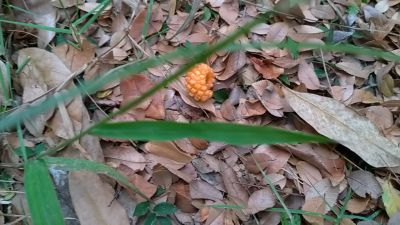eggs: (183, 60, 214, 103)
